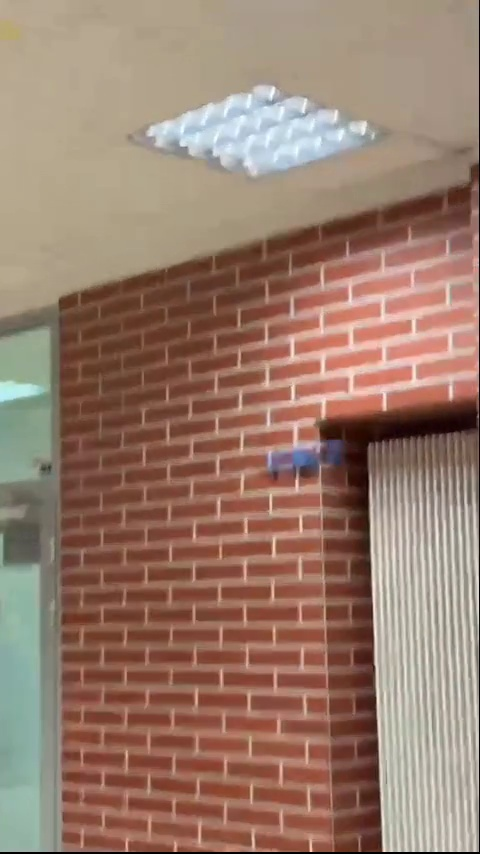drone: (266, 444, 348, 478)
